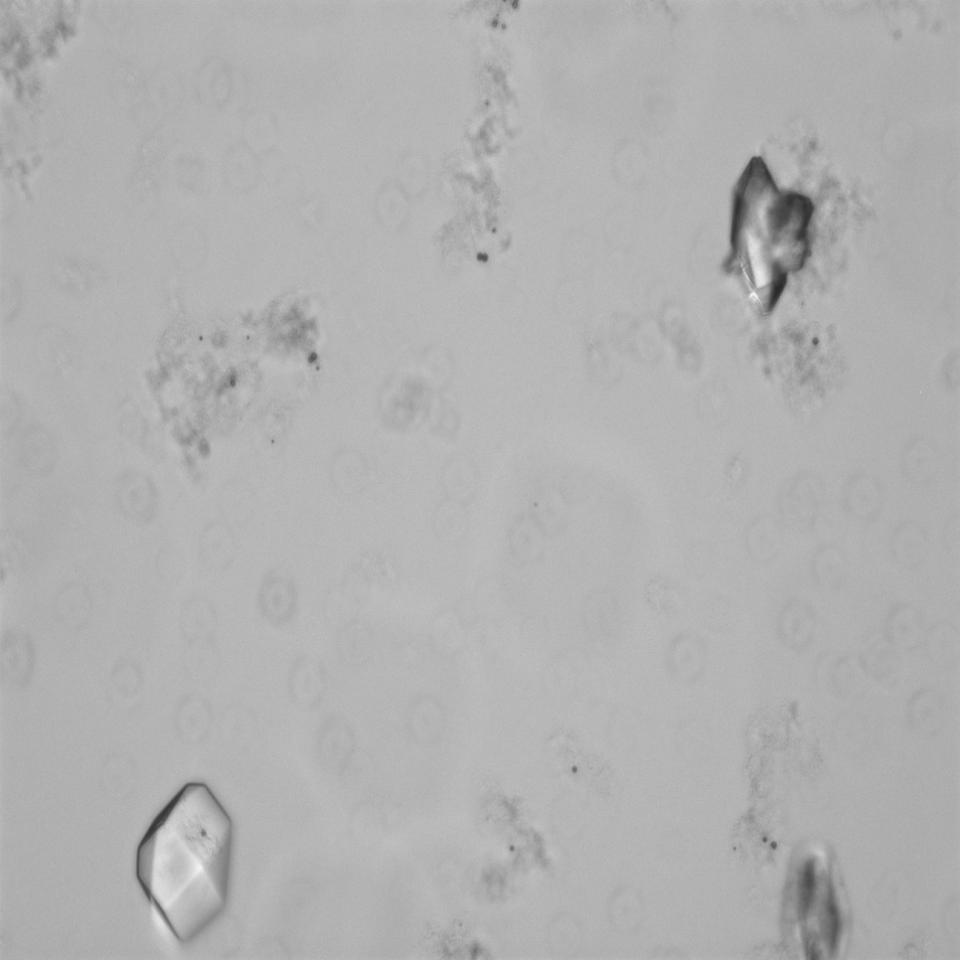crystal: (125, 780, 254, 933), (726, 147, 821, 320)
